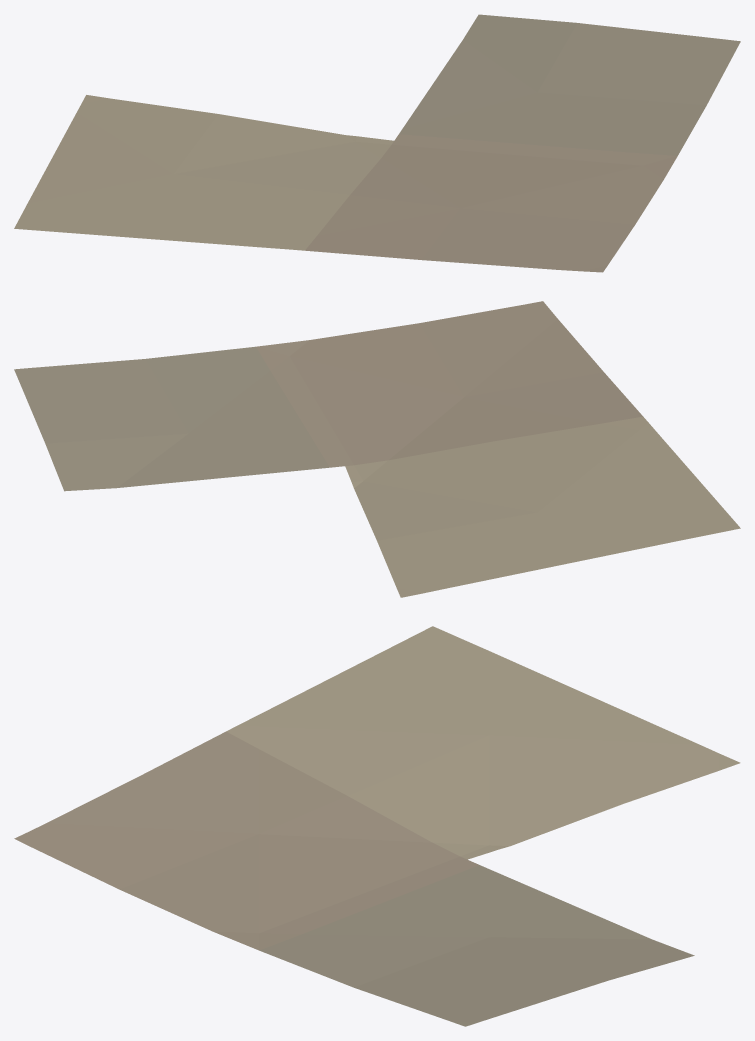
File: farm_-22_-24_soil.glb
3 renders of one model, top to bottom at view 1: azimuth 30°, elevation 25°; view 2: azimuth 150°, elevation 25°; view 3: azimuth 270°, elevation 25°, orthographic. The views are drawn at different scales.
Parts seen in each view (by area): view 1: geometry_0; view 2: geometry_0; view 3: geometry_0.
Part boxes in pixels (x1,y1,x2,y2): geometry_0: (14,14,740,272); geometry_0: (14,301,740,597); geometry_0: (14,626,740,1026).
Bounding box in the file's own units: 326 × 9.23 × 253.
